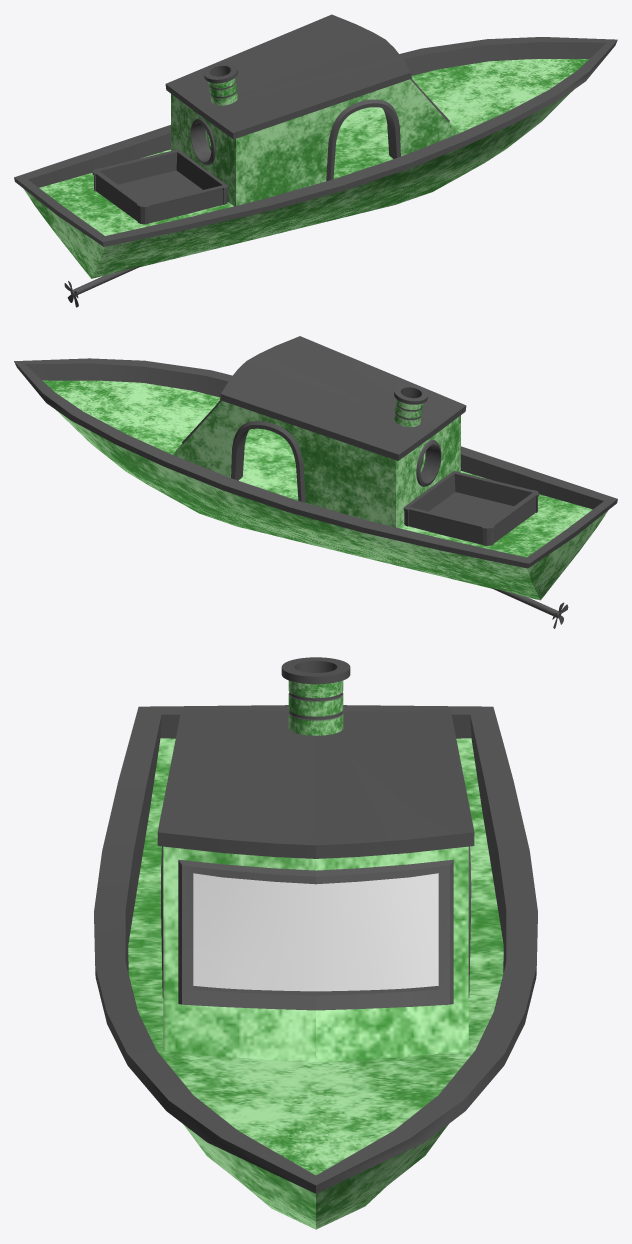
3 views of the same model, one above another, from view 1: azimuth 30°, elevation 25°; view 2: azimuth 150°, elevation 25°; view 3: azimuth 270°, elevation 25° (orthographic). The views are drawn at different scales.
Visible parts, largest first — view 1: Body, Room, Box, Chimney, Motor stick; view 2: Body, Room, Box, Chimney, Motor stick; view 3: Body, Room, Window, Chimney.
Part boxes in pixels (bbox=[...]): Body: bbox=[14, 37, 617, 278]; Room: bbox=[165, 14, 458, 206]; Box: bbox=[92, 149, 228, 224]; Chimney: bbox=[203, 62, 238, 105]; Motor stick: bbox=[70, 266, 141, 296]; Body: bbox=[14, 358, 617, 600]; Room: bbox=[173, 336, 466, 527]; Box: bbox=[403, 471, 539, 545]; Chimney: bbox=[393, 384, 428, 427]; Motor stick: bbox=[491, 588, 561, 618]; Body: bbox=[94, 705, 537, 1229]; Room: bbox=[157, 710, 474, 1061]; Window: bbox=[193, 873, 438, 991]; Chimney: bbox=[281, 657, 350, 735].
Size of the model in its own units: 802 by 274 by 275.
